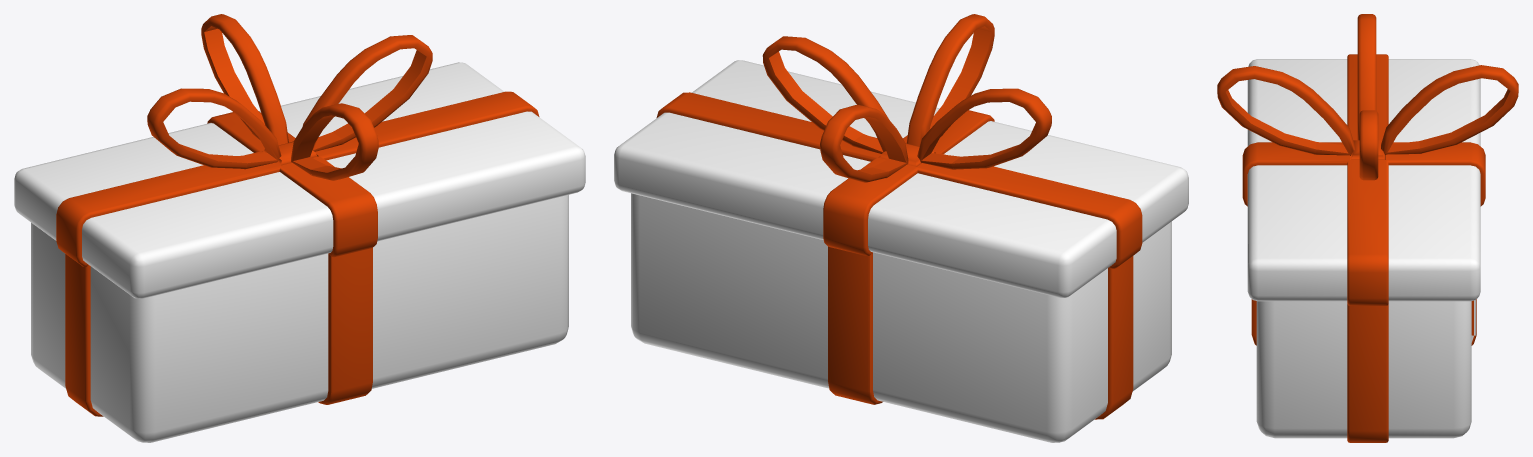
Rendered from Gift Box_4.fbx.
3 views of the same model, side by side, from view 1: azimuth 30°, elevation 25°; view 2: azimuth 150°, elevation 25°; view 3: azimuth 270°, elevation 25° (orthographic). The views are drawn at different scales.
Visible parts, largest first — view 1: Gift Box_4; view 2: Gift Box_4; view 3: Gift Box_4.
Boxes of the visible parts, left/top/right/bottom form: Gift Box_4: left=14, top=14, right=585, bottom=442; Gift Box_4: left=614, top=14, right=1188, bottom=442; Gift Box_4: left=1217, top=14, right=1518, bottom=442.
Size of the model in its own units: 0.5982 by 0.3673 by 0.3616.
